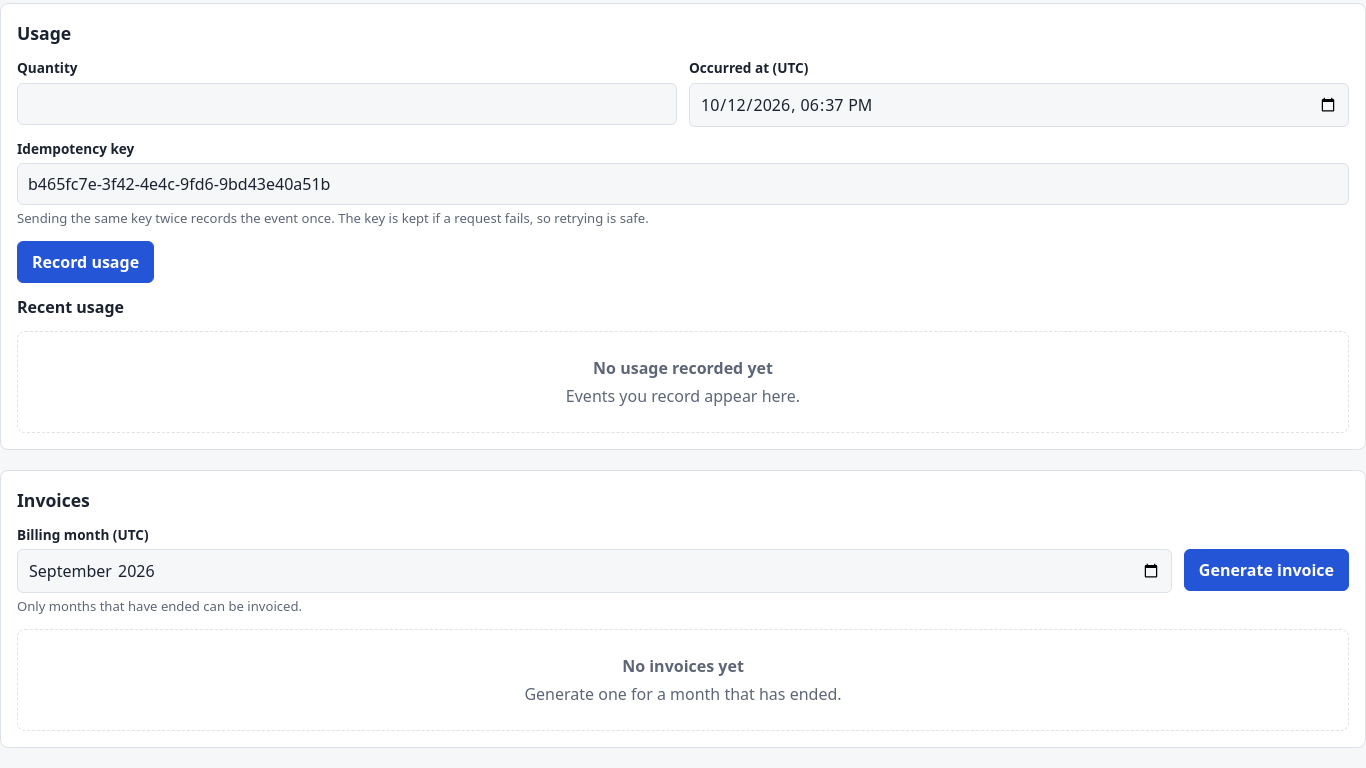
customer page: invoices › distinguishes a new invoice from an already-issued one
(page scrolled)
Click the button "Generate invoice": (1266,570) [1184, 549, 1349, 591]
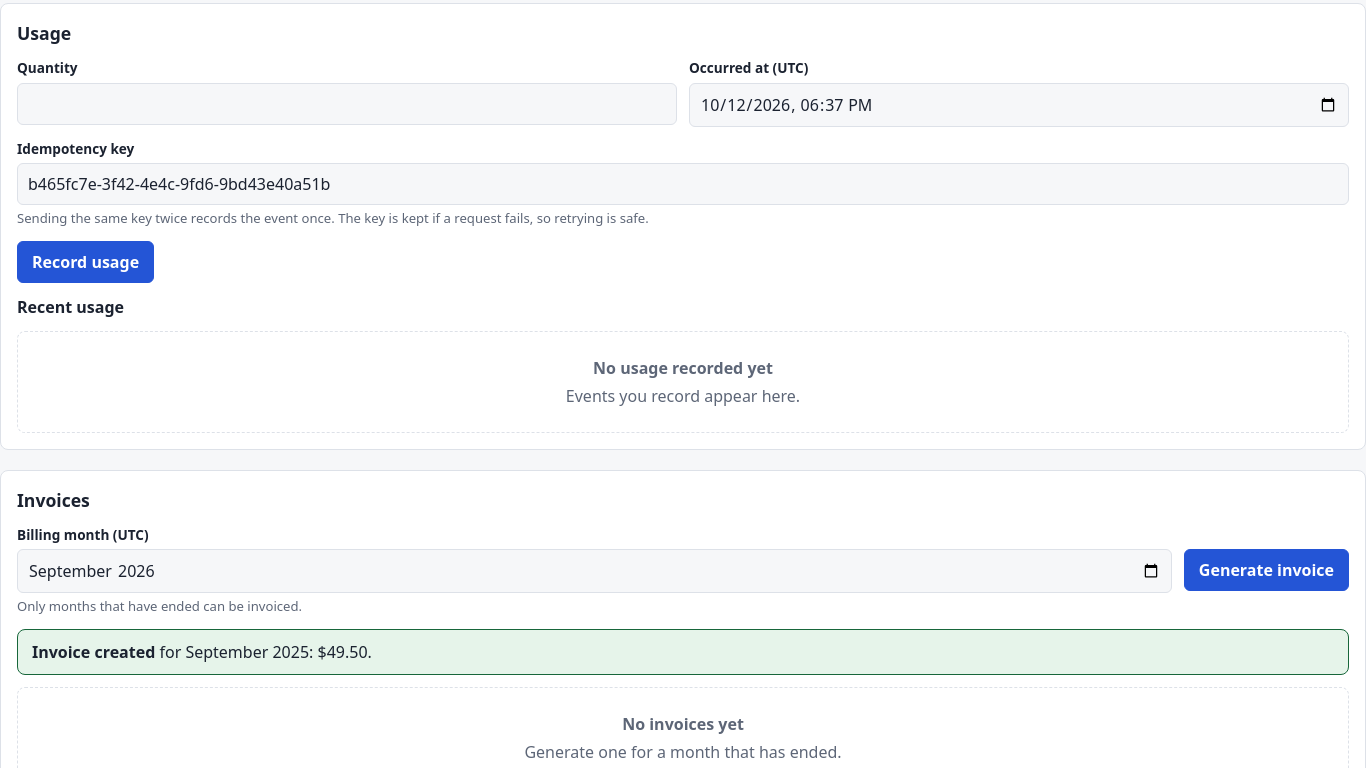
Expected: the text "Invoice created" is shown, [32, 641, 155, 663]
Click the button "Generate invoice": (1266,570) [1184, 549, 1349, 591]
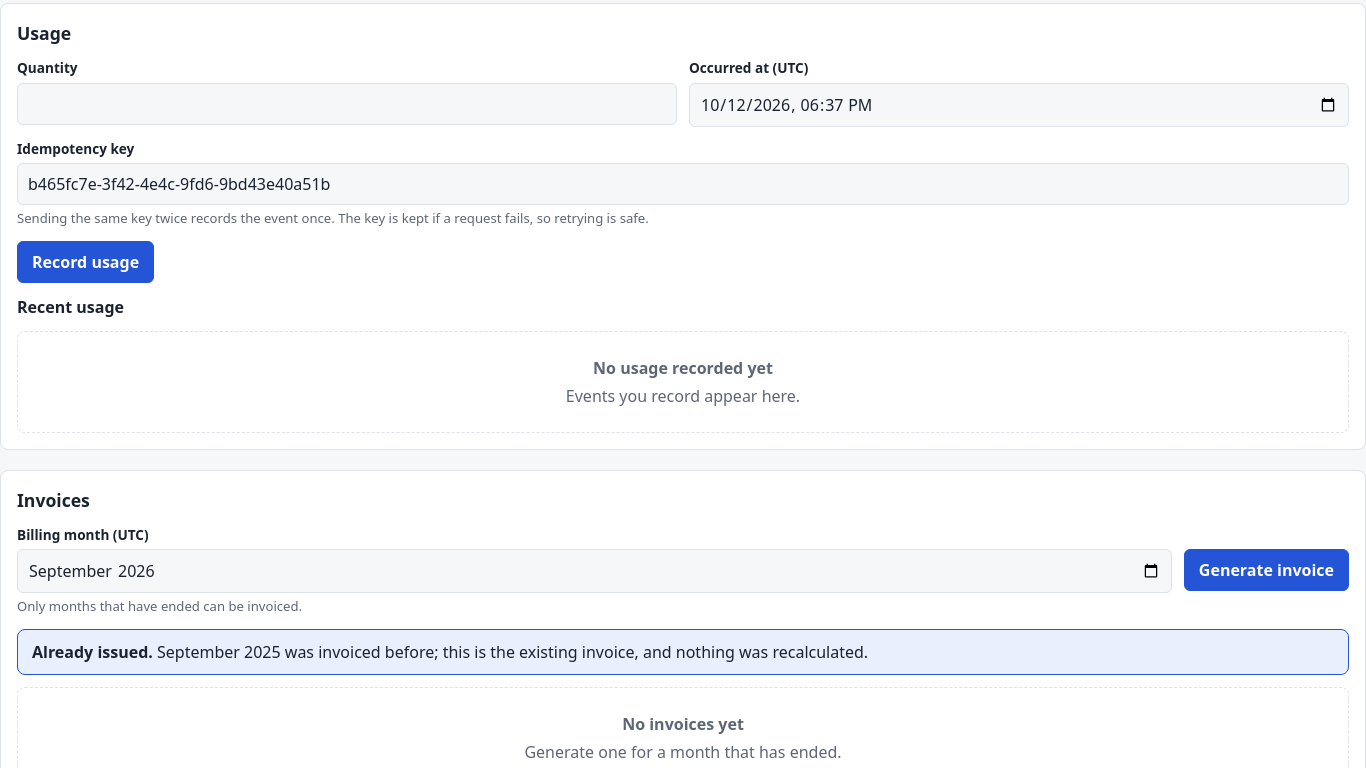
Expected: the text "Already issued." is shown, [32, 641, 153, 663]
Expected: the text "Invoice created" is gone
